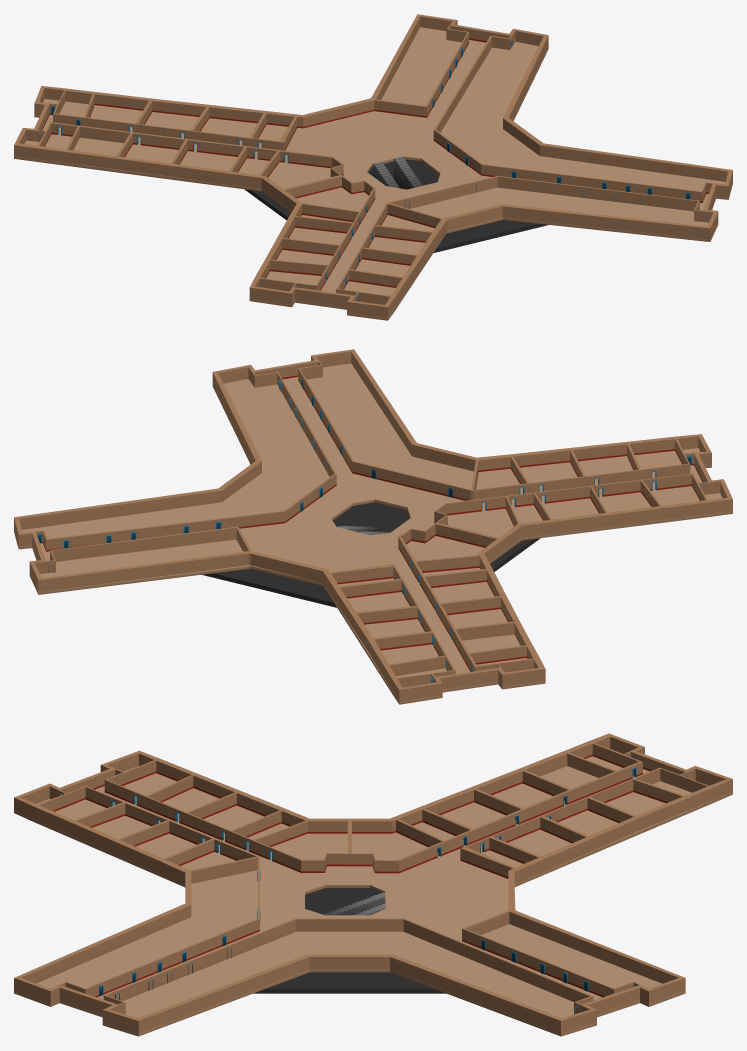
Rendered from SM_walls.fbx.
3 renders of one model, top to bottom at view 1: azimuth 30°, elevation 25°; view 2: azimuth 150°, elevation 25°; view 3: azimuth 270°, elevation 25°, orthographic. The views are drawn at different scales.
Visible parts, largest first — view 1: zemin; view 2: zemin; view 3: zemin.
Boxes of the visible parts, x1,y1,x2,y2 form: zemin: [14, 14, 732, 320]; zemin: [14, 349, 732, 704]; zemin: [14, 733, 732, 1036].
Bounding box in the file's own units: 14884 × 1107 × 15724.
